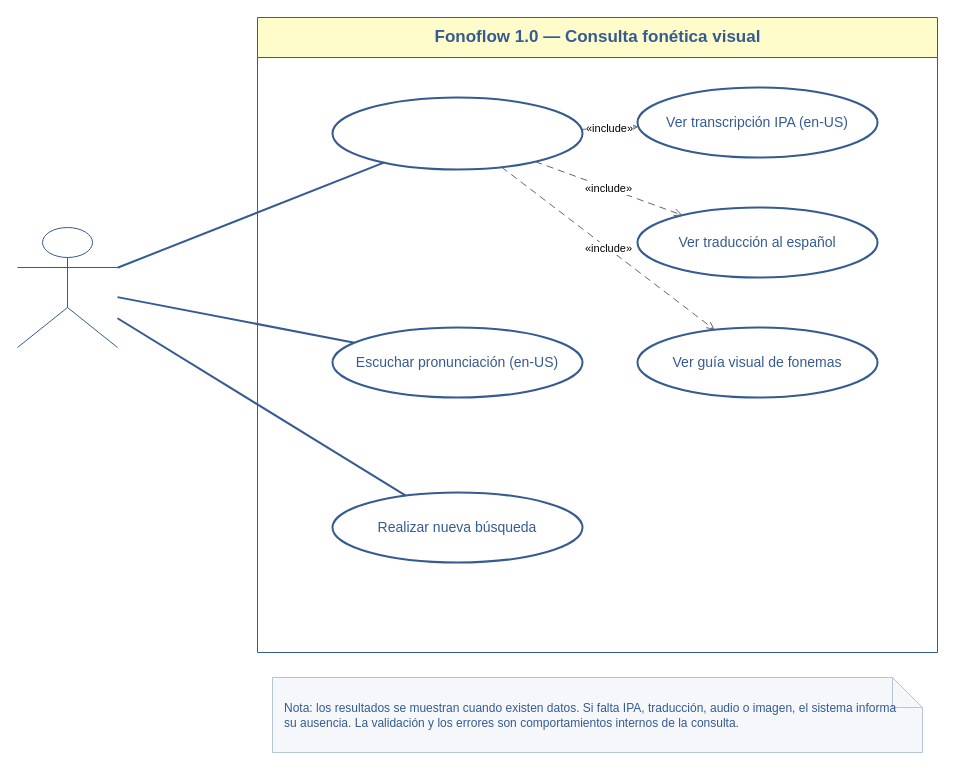
Some shapes in this 955 by 770 pixel diagram are drawn without their labels. Here are the shapes that lost their labels. From the top down, the centre of each, then its label:
At (457,133): "Consultar palabra en inglés".
At (67,287): "Visitante".
